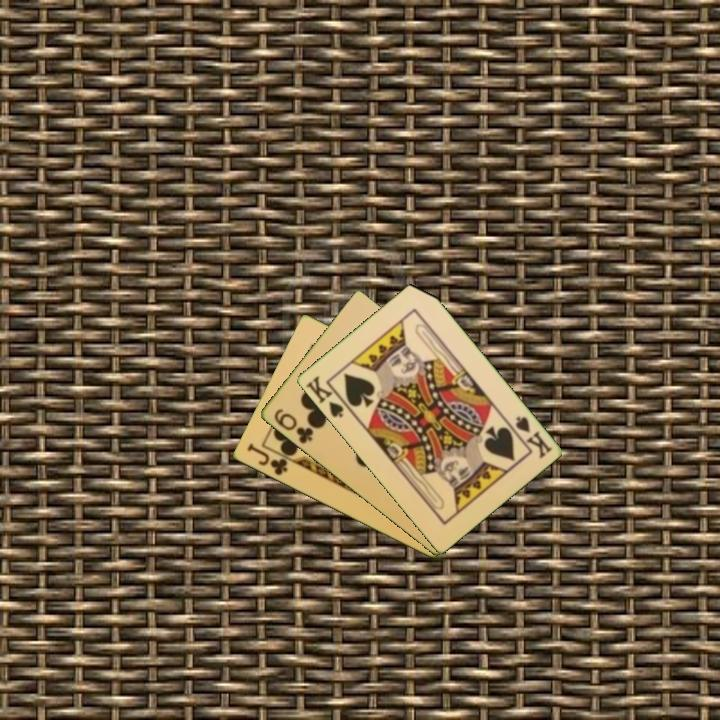6c: (270, 405, 316, 447)
Jc: (243, 440, 290, 479)
Ks: (302, 372, 346, 421), (511, 413, 555, 461)
